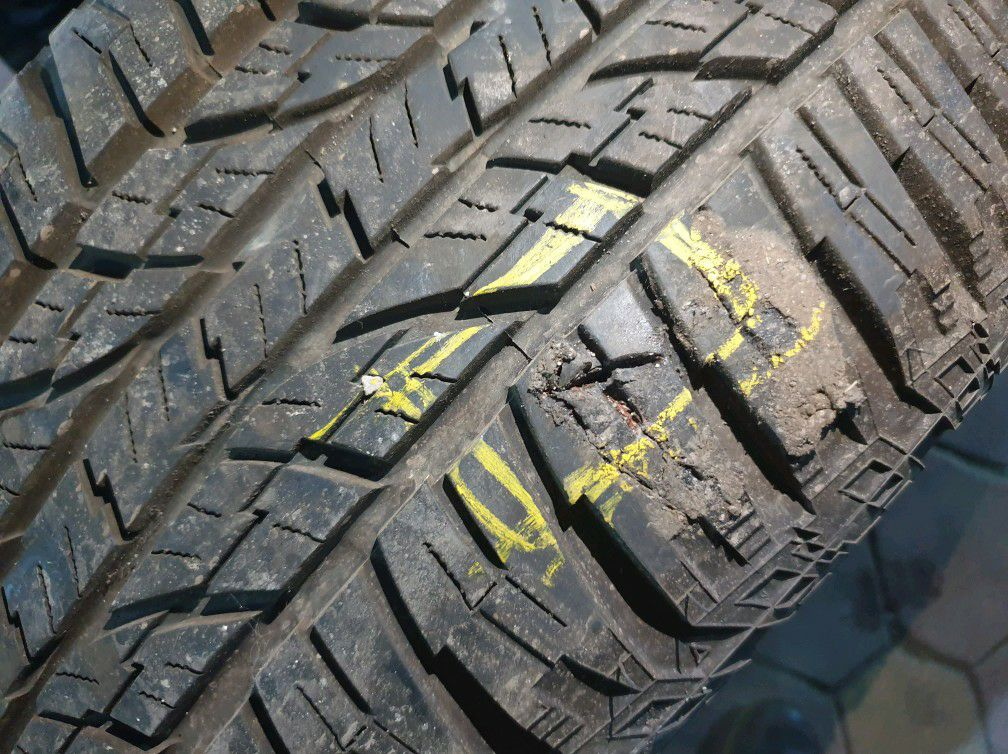tr: (526, 342, 672, 405)
